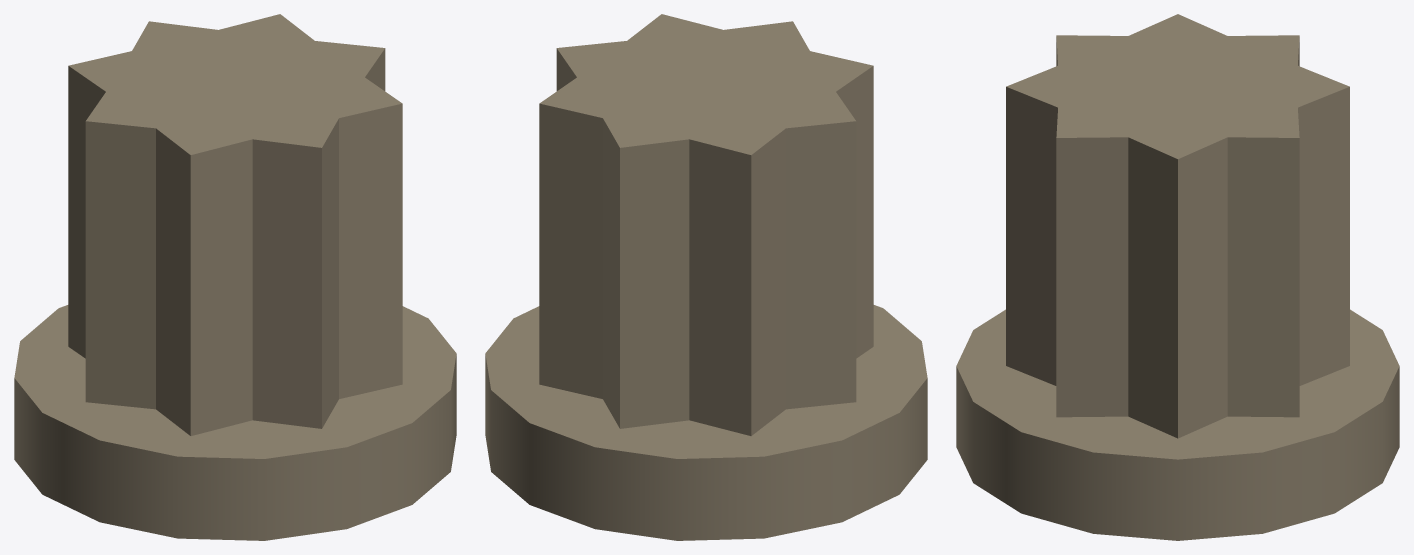
Rendered from Pillar_Obsticle_Temp.fbx.
The picture shows the model from 3 angles, left to right: view 1: azimuth 30°, elevation 25°; view 2: azimuth 150°, elevation 25°; view 3: azimuth 270°, elevation 25°; orthographic projection.
Parts seen in each view (by area): view 1: Circle.002; view 2: Circle.002; view 3: Circle.002.
Boxes of the visible parts, bbox=[...] form: Circle.002: bbox=[14, 14, 456, 540]; Circle.002: bbox=[485, 14, 927, 540]; Circle.002: bbox=[956, 14, 1399, 540].
Bounding box in the file's own units: 105 × 94.03 × 105.
